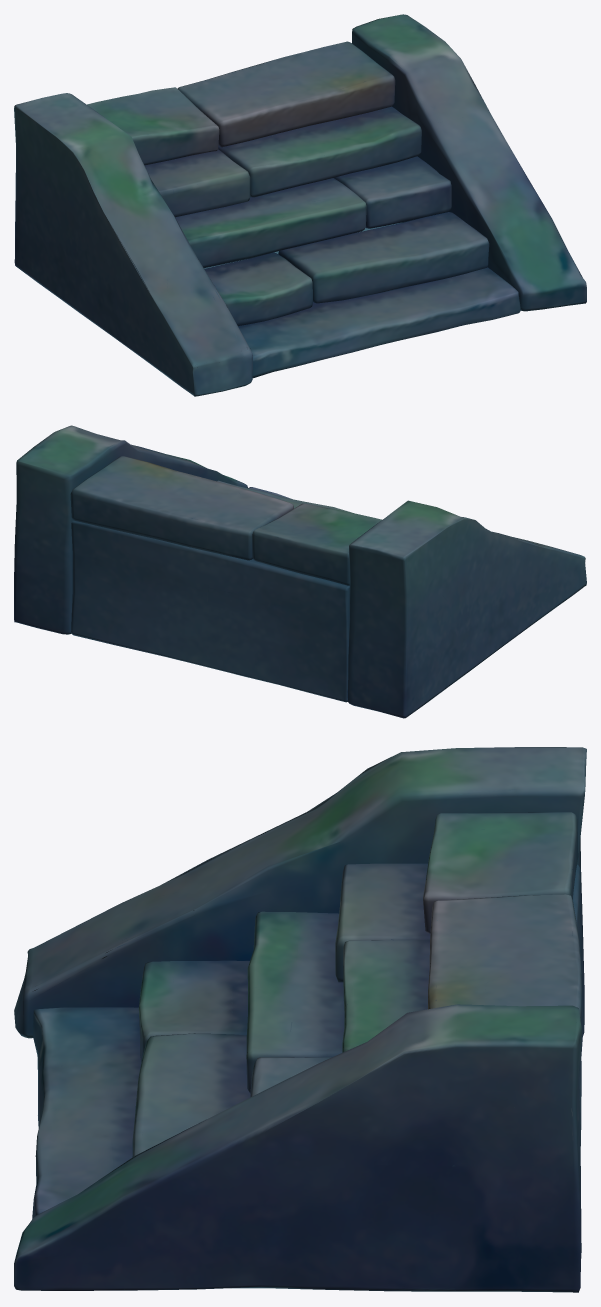
File: Meshy_AI_Mossy_Stone_Staircase_20261123_texture.fbx
The picture shows the model from 3 angles, top to bottom: view 1: azimuth 30°, elevation 25°; view 2: azimuth 150°, elevation 25°; view 3: azimuth 270°, elevation 25°; orthographic projection. The views are drawn at different scales.
Visible parts, largest first — view 1: geometry_0; view 2: geometry_0; view 3: geometry_0.
Part boxes in pixels (left/top/right/bottom): geometry_0: left=14, top=14, right=586, bottom=396; geometry_0: left=14, top=425, right=586, bottom=718; geometry_0: left=14, top=747, right=586, bottom=1292.
Bounding box in the file's own units: 100 × 39.93 × 81.86.
Materials: 1 (1 with a texture image).
